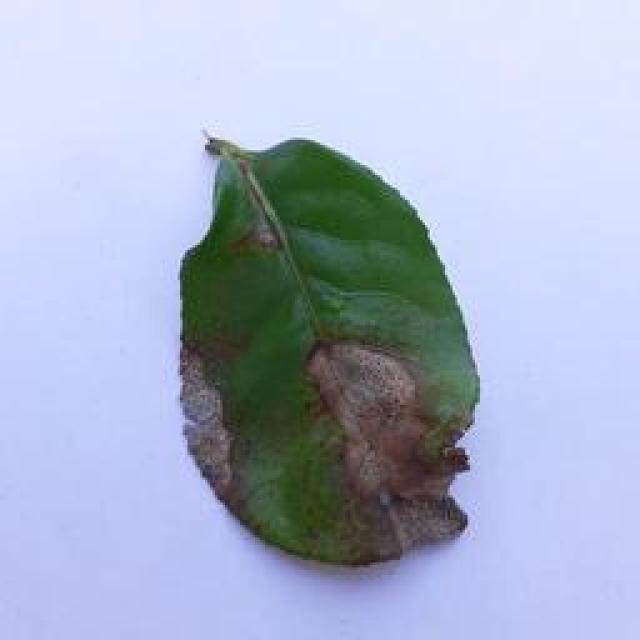Gray Blight: (171, 125, 482, 567)
